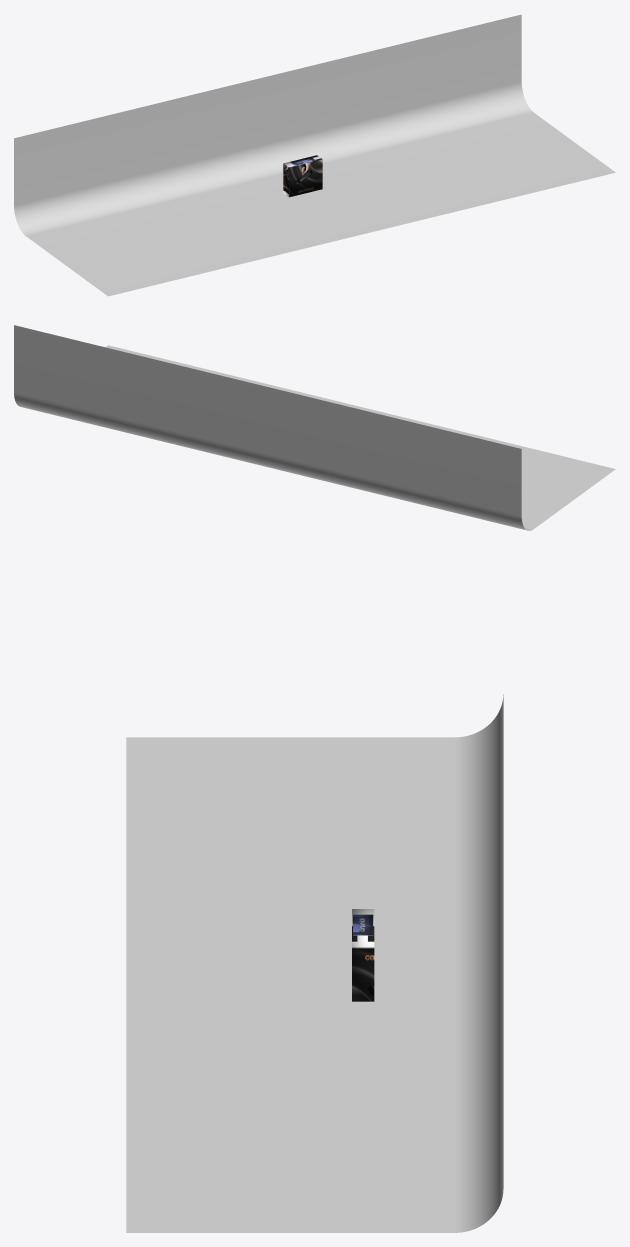
Rendered from Inspiration Packaging.glb.
3 renders of one model, top to bottom at view 1: azimuth 30°, elevation 25°; view 2: azimuth 150°, elevation 25°; view 3: azimuth 270°, elevation 25°, orthographic. The views are drawn at different scales.
Visible parts, largest first — view 1: Dackdrop.001, Cube.002; view 2: Dackdrop.001; view 3: Dackdrop.001, Cube.002.
Part boxes in pixels (x1,y1,x2,y2): Dackdrop.001: [14, 14, 615, 296]; Cube.002: [283, 155, 322, 197]; Dackdrop.001: [14, 325, 615, 530]; Dackdrop.001: [126, 694, 503, 1232]; Cube.002: [352, 909, 374, 1001].
Bounding box in the file's own units: 51.61 × 8.66 × 16.6.
3 materials, 2 textured.
